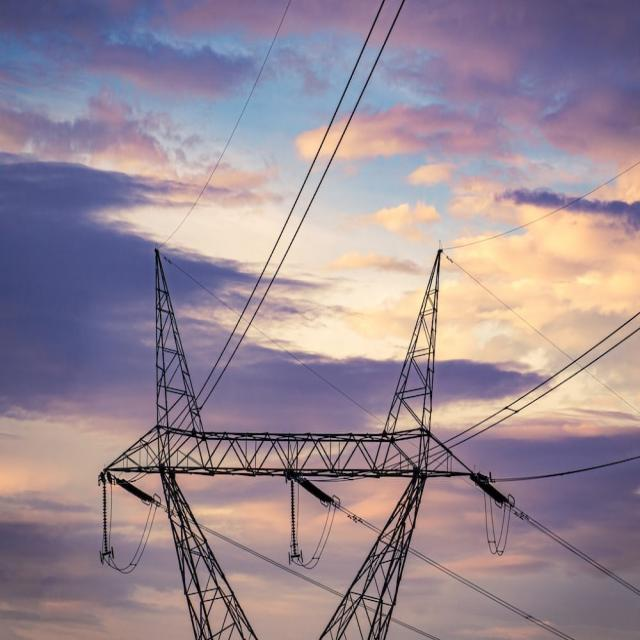transmission tower: (94, 212, 510, 640)
